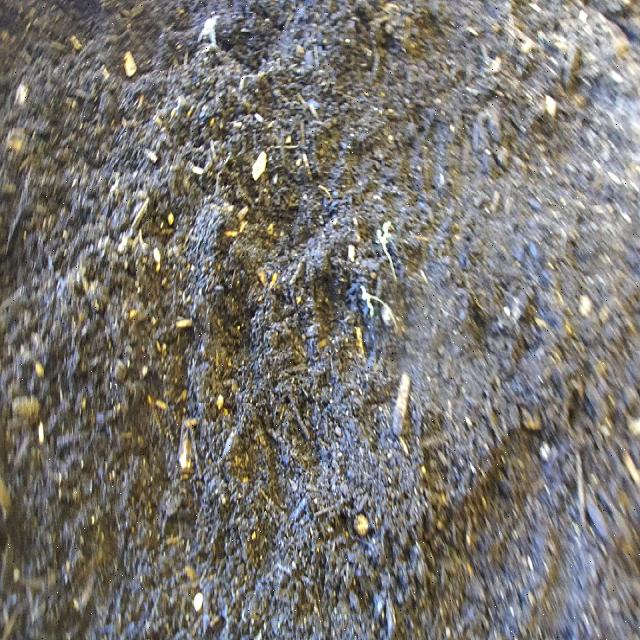Unhealthy: (371, 213, 404, 293)
